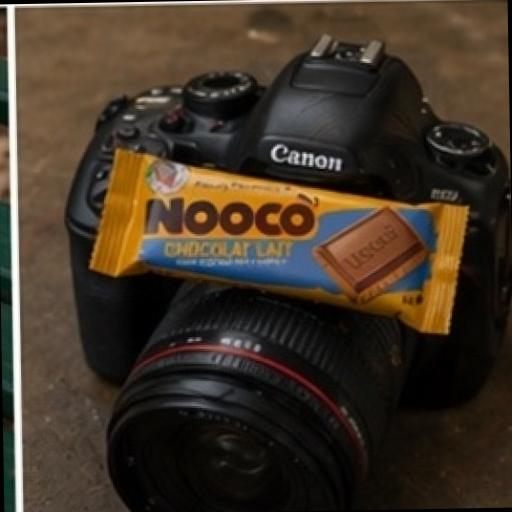biscuit-detection: (74, 112, 473, 365)
